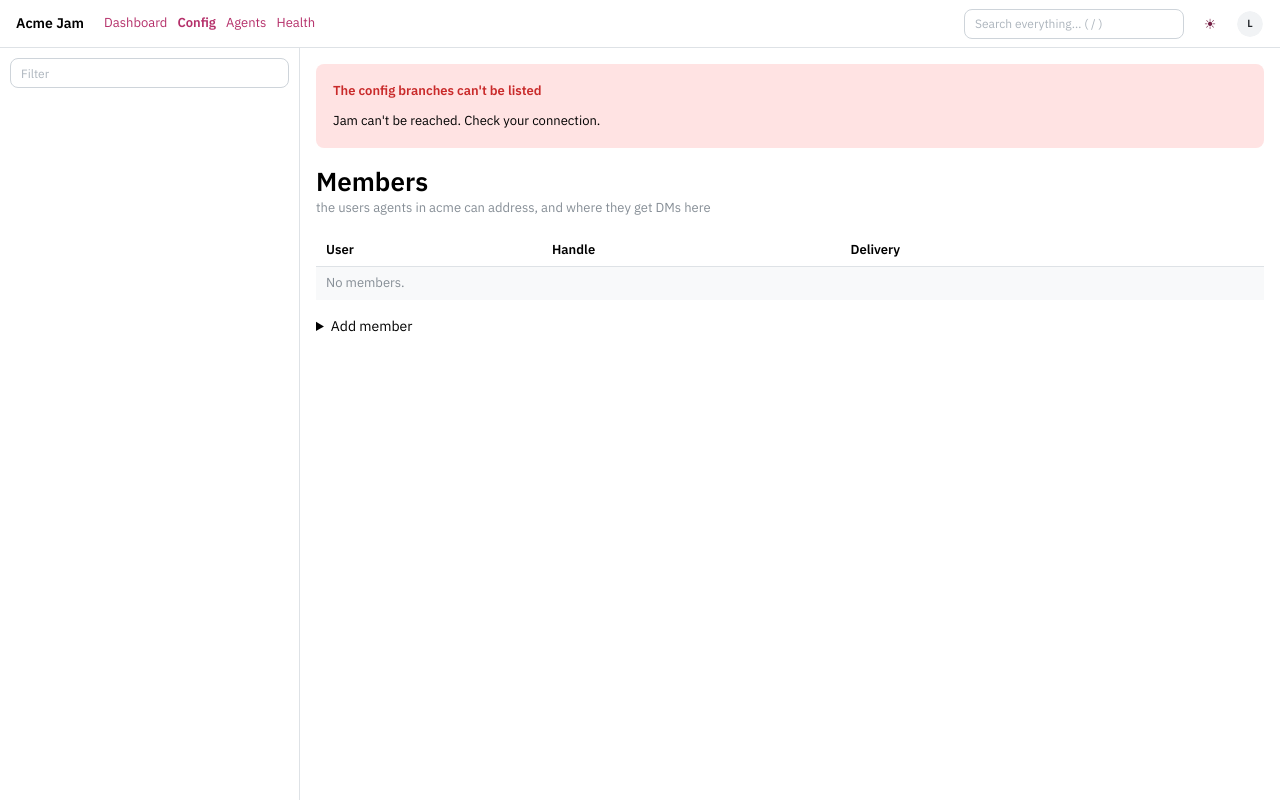
TypeAhead › completes the last token of a list
Click the heading "Add member".
click(372, 326)  # box [331,316,412,334]
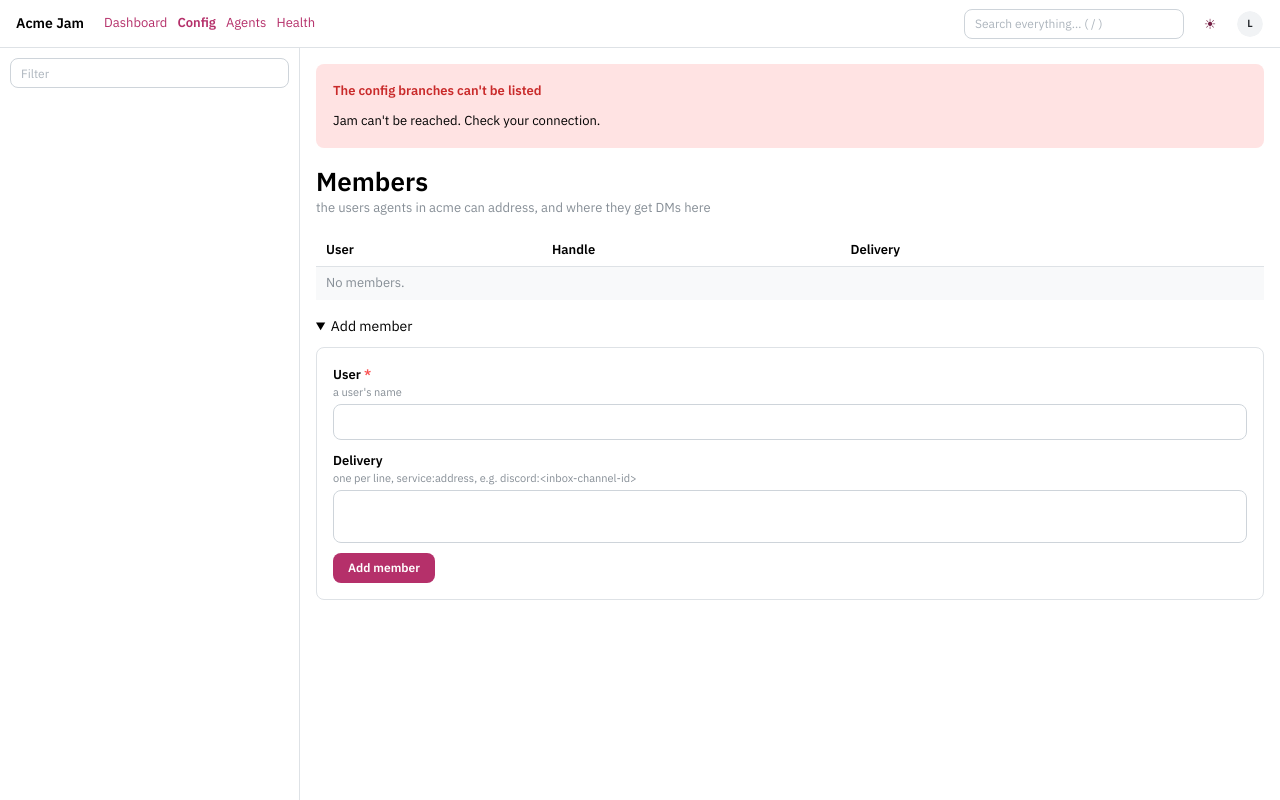
Type "bo" into the field labelled "User *".
click(790, 422); type("bo")  # box [333,404,1247,440]
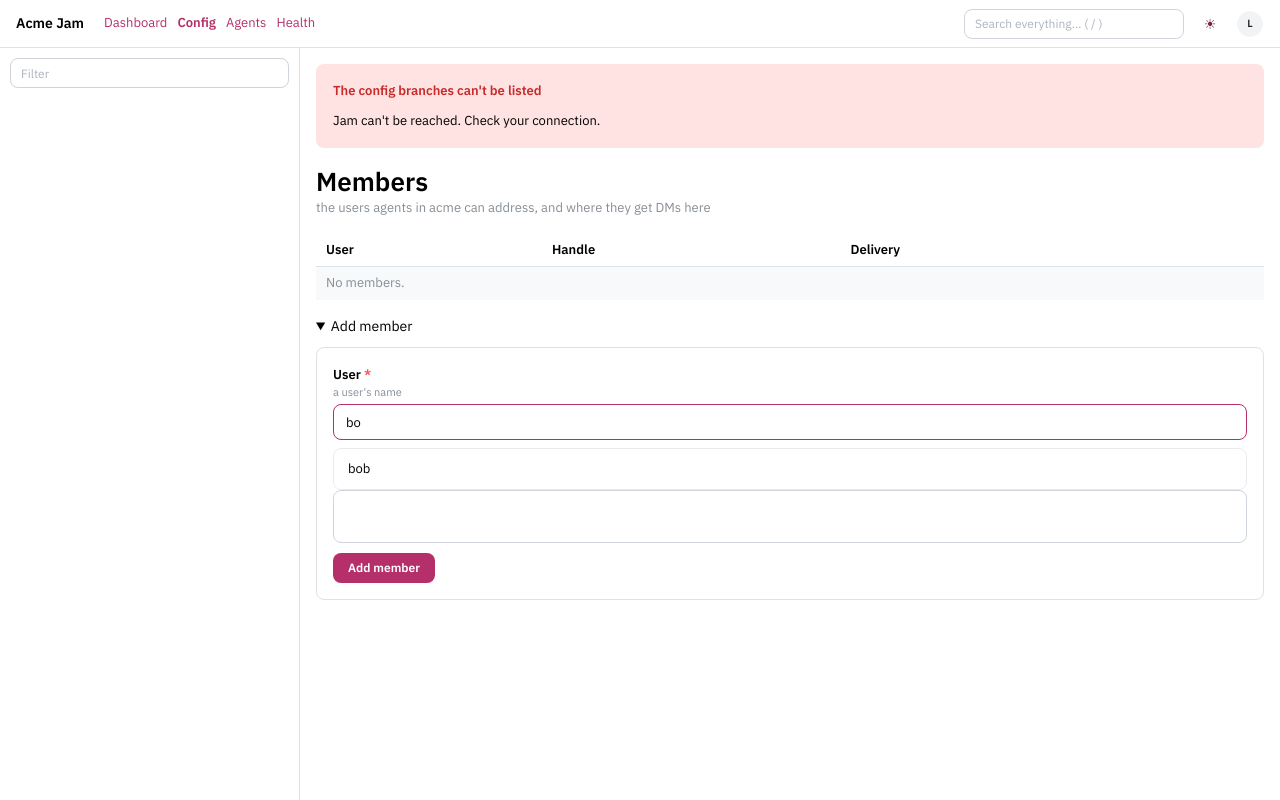
Click the option "bob".
click(359, 469)  # box [348,460,370,477]
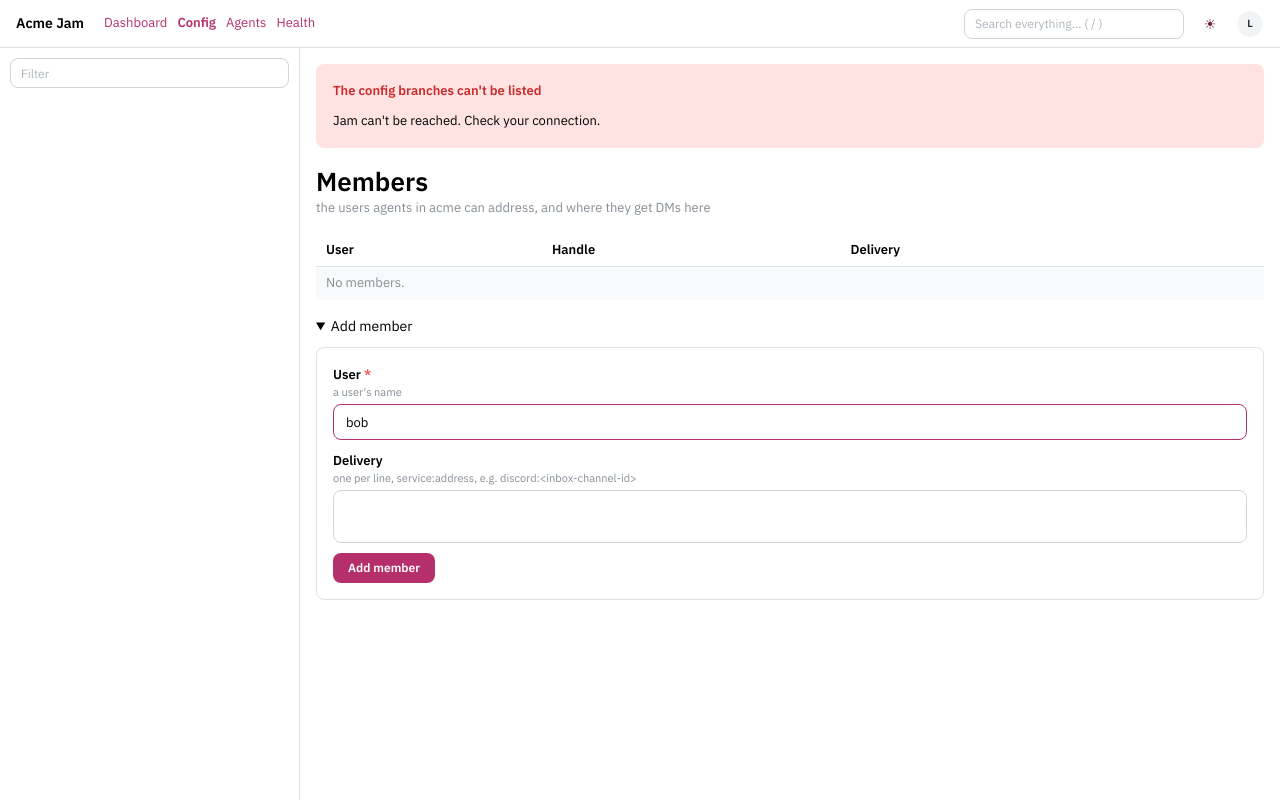
Result: the field labelled "User *" holds "bob" at [333,404,1247,440]
